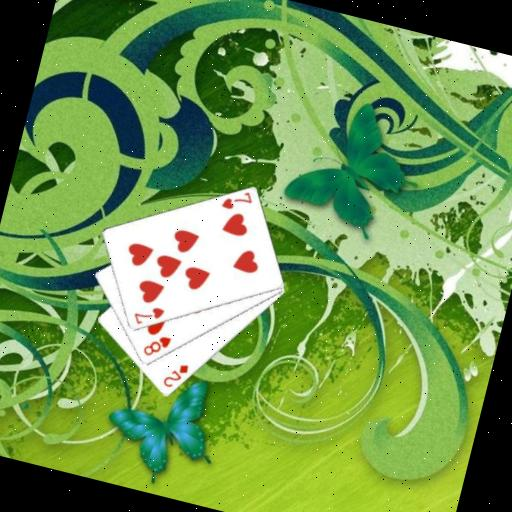2D: (159, 357, 191, 393)
7H: (217, 183, 256, 217), (129, 299, 168, 332)
8H: (139, 329, 174, 362)
